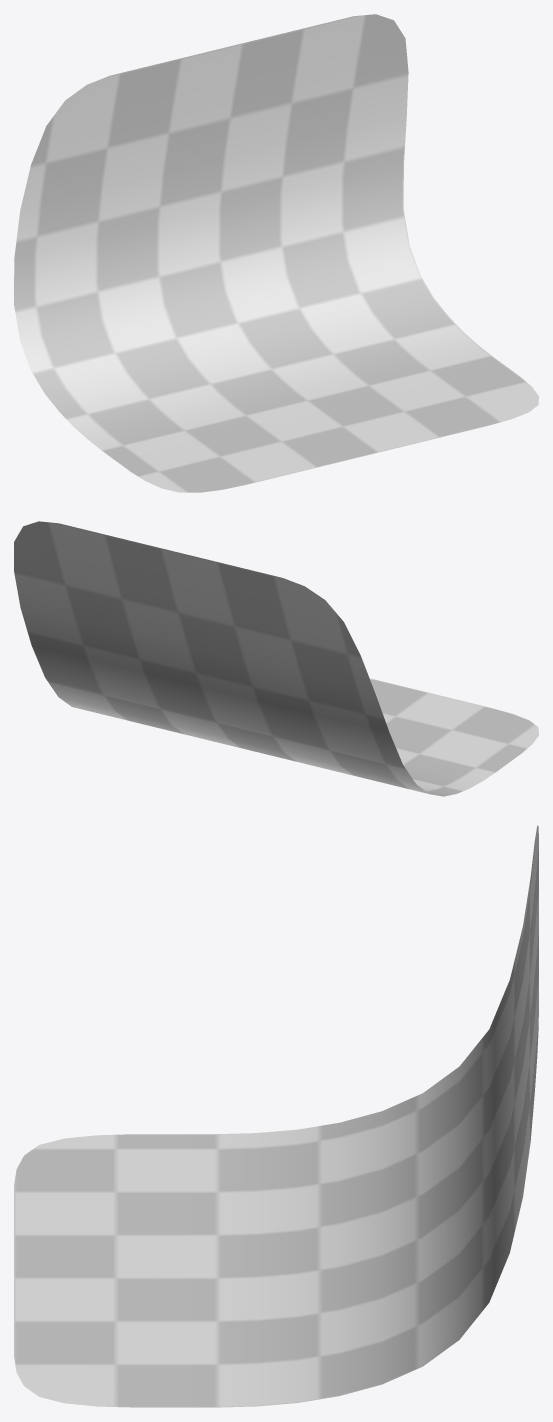
File: backdrop.dae
The picture shows the model from 3 angles, top to bottom: view 1: azimuth 30°, elevation 25°; view 2: azimuth 150°, elevation 25°; view 3: azimuth 270°, elevation 25°; orthographic projection. The views are drawn at different scales.
Parts seen in each view (by area): view 1: backdrop; view 2: backdrop; view 3: backdrop.
Part boxes in pixels (x1,y1,x2,y2): backdrop: (14,14,538,492); backdrop: (14,521,538,796); backdrop: (14,825,538,1407).
Size of the model in its own units: 12.79 by 9.73 by 7.77.
Materials: 1 (1 with a texture image).
